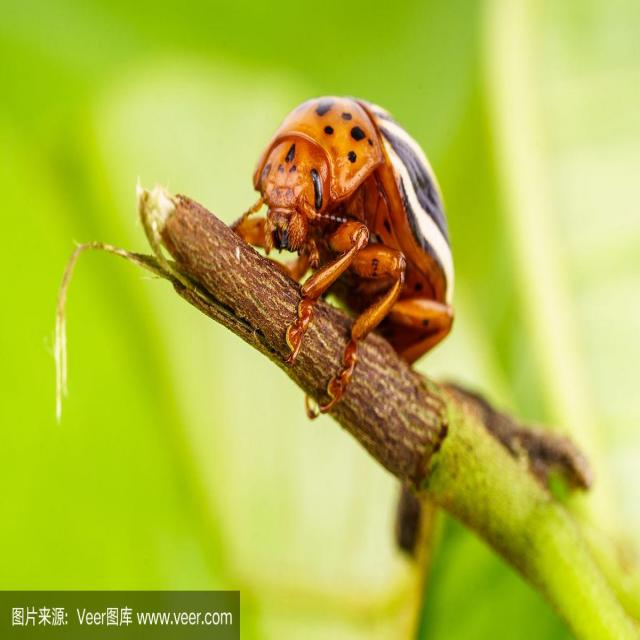ShuCaiHuaBanChong-Grown-: (240, 64, 490, 385)
